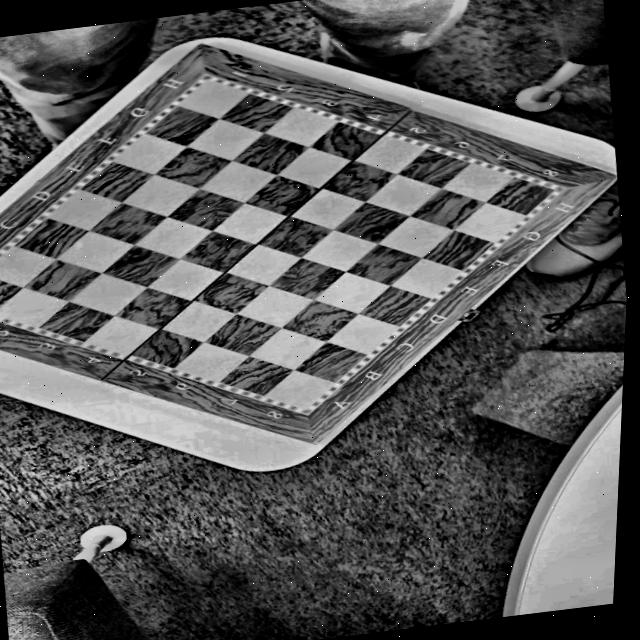chessboard: (0, 41, 615, 438)
